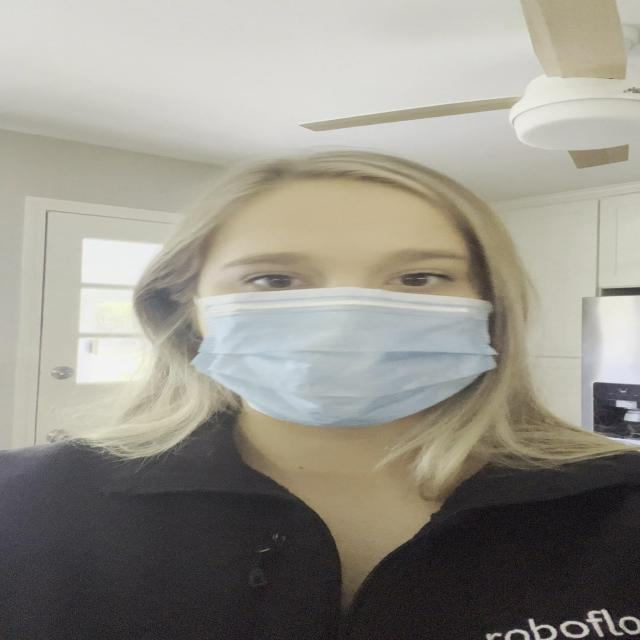no-helmet: (152, 171, 522, 445)
